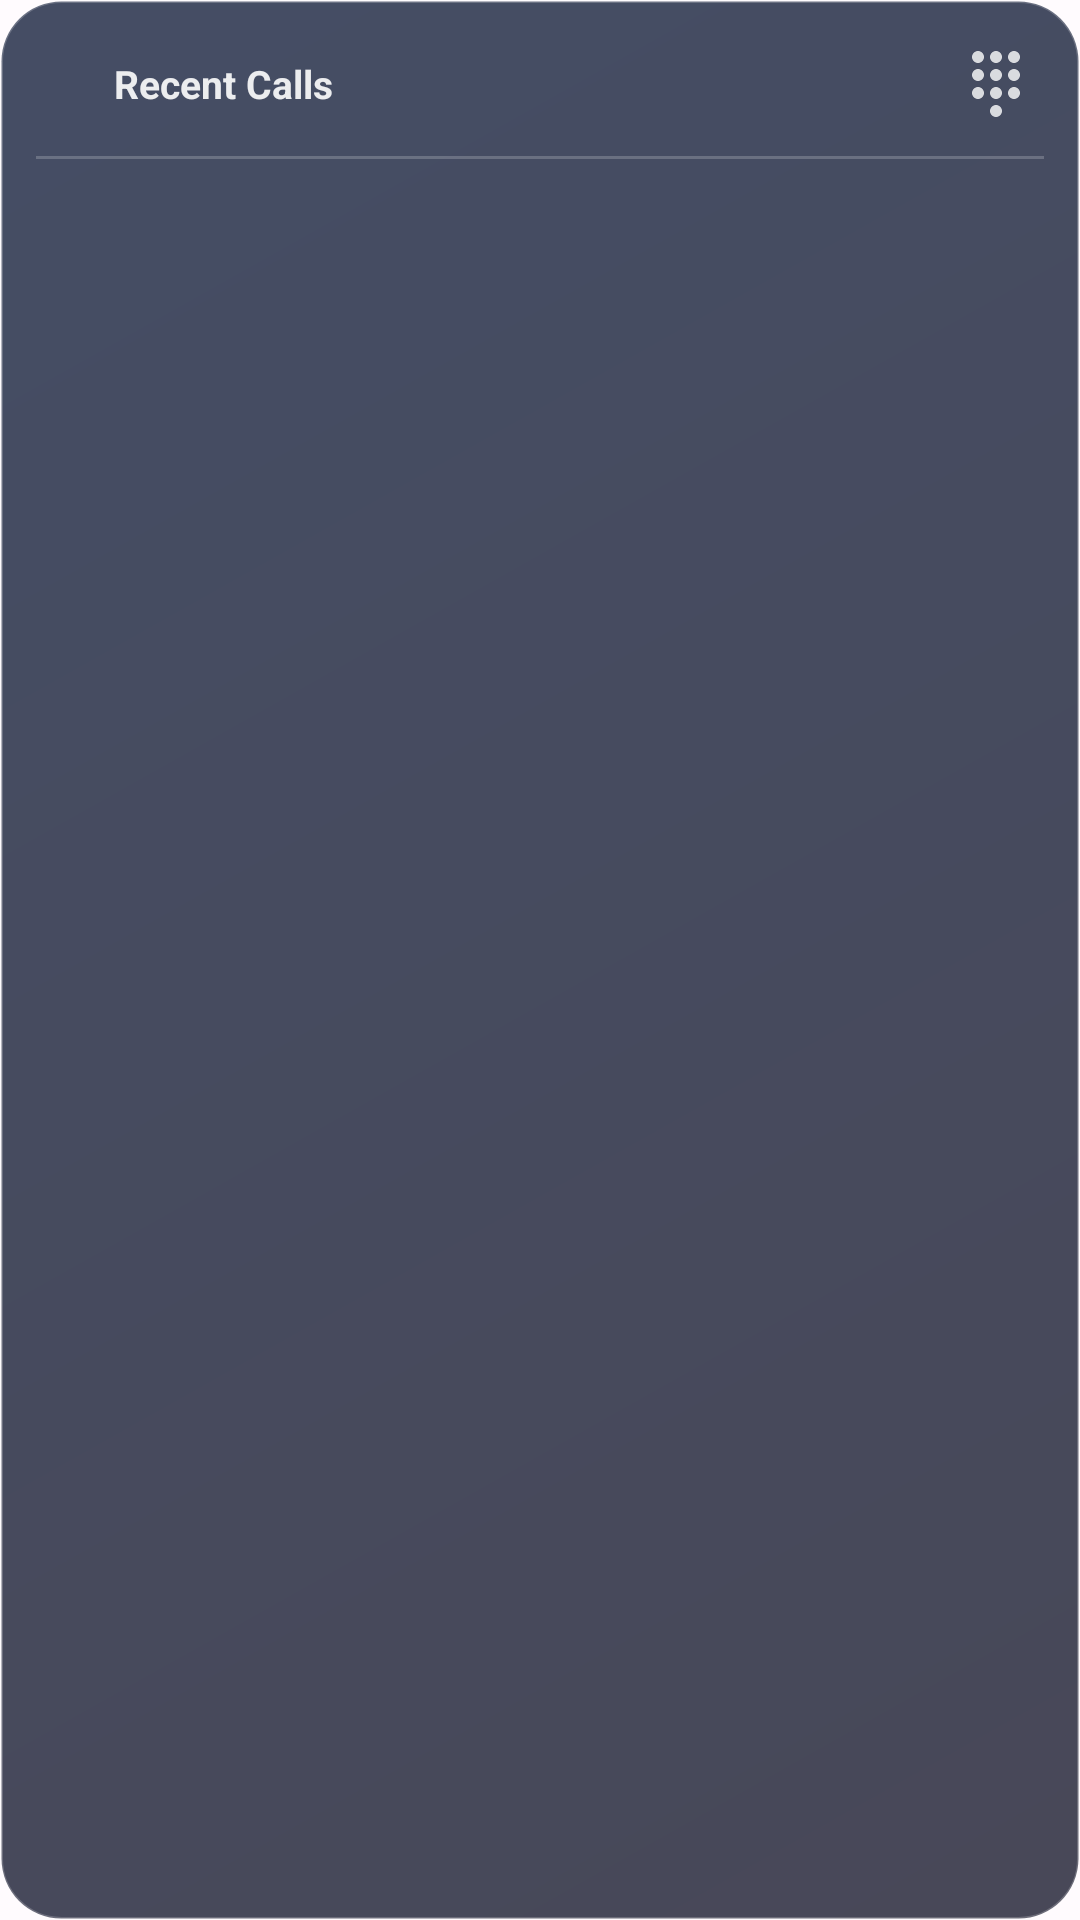

Where to tap for icons on this 1080x1920 app screen, as (x=x, y=y):
Open dialer: (x=996, y=84)
